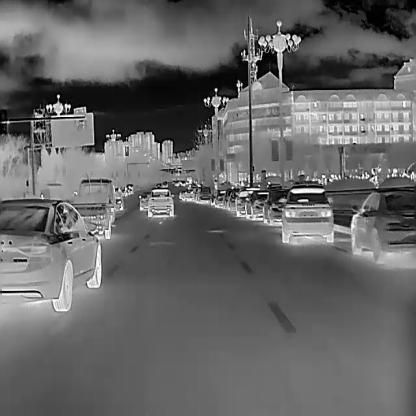car: (0, 198, 101, 312), (351, 189, 416, 262), (279, 188, 333, 241), (68, 177, 114, 237), (262, 189, 287, 225), (146, 188, 172, 215), (244, 189, 268, 218), (234, 190, 248, 215), (195, 185, 212, 204), (227, 187, 240, 210), (113, 187, 124, 210), (221, 187, 233, 208), (138, 191, 150, 210), (214, 189, 225, 207), (185, 188, 195, 201), (192, 186, 200, 201), (125, 183, 133, 194), (178, 189, 186, 200), (161, 180, 167, 188), (155, 182, 161, 188), (187, 176, 191, 184), (174, 181, 179, 186), (181, 181, 185, 186)
